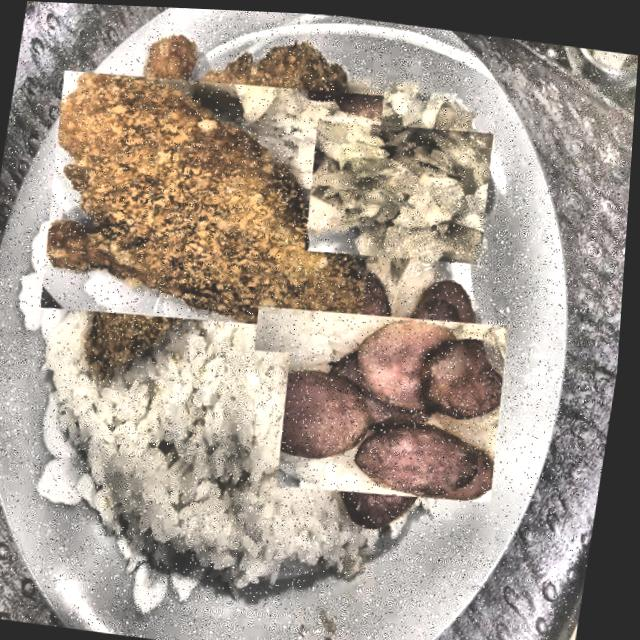Food: (48, 35, 382, 363), (251, 273, 508, 526), (117, 331, 306, 578), (308, 97, 494, 279)
